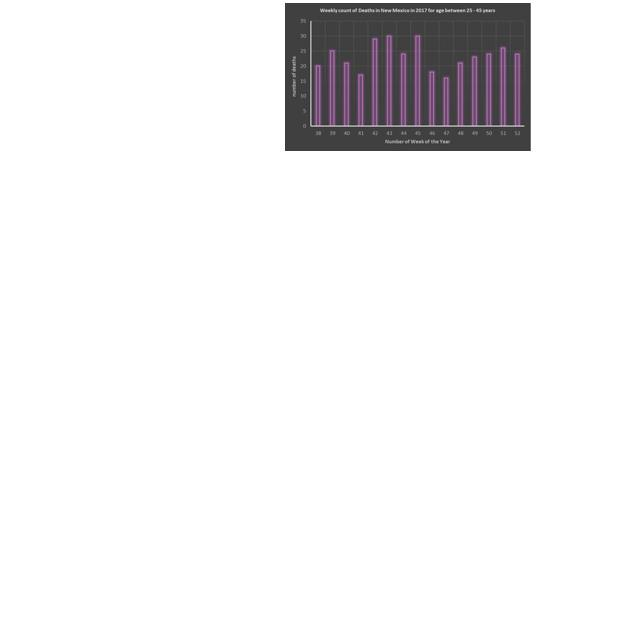Graph: (285, 3, 531, 151)
